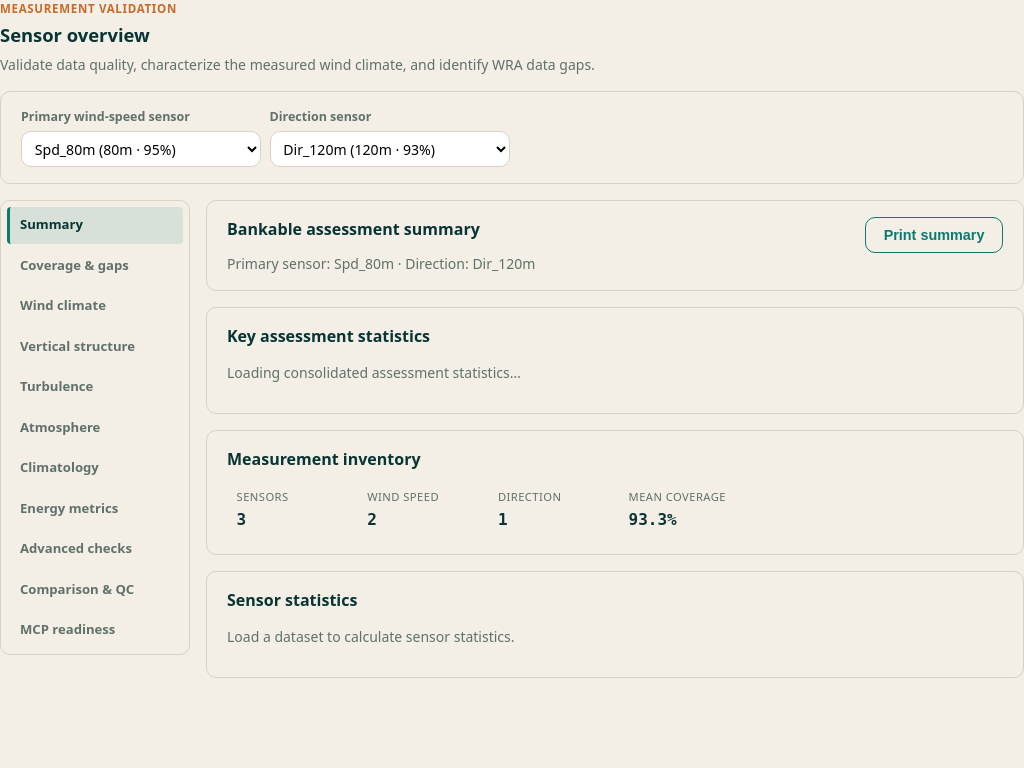
Test: Sensor Overview › renders vertical alpha and veer analysis for multi-height sensor inventories
The width and height of the screenshot is (1024, 768).
Click the button "Vertical structure" at (95, 347), box [7, 328, 183, 365]
(page scrolled)
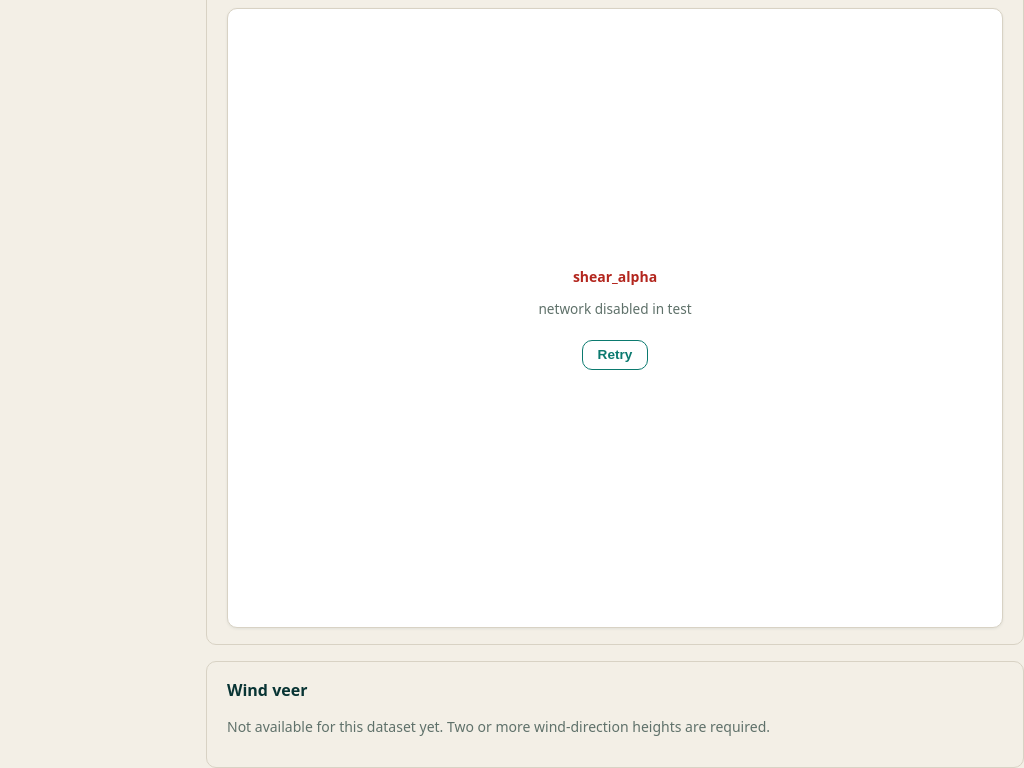
Now the heading "Wind veer" is shown, box [227, 679, 307, 701]
